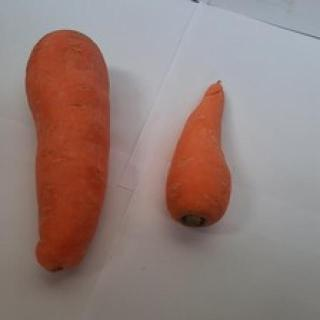carrot: (26, 28, 114, 276), (166, 80, 234, 230)
